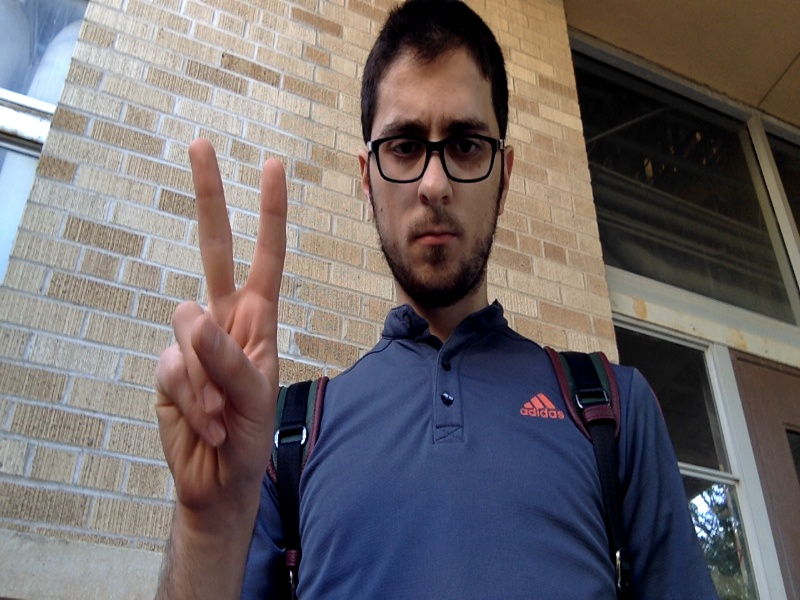2-hand: (155, 140, 285, 523)
